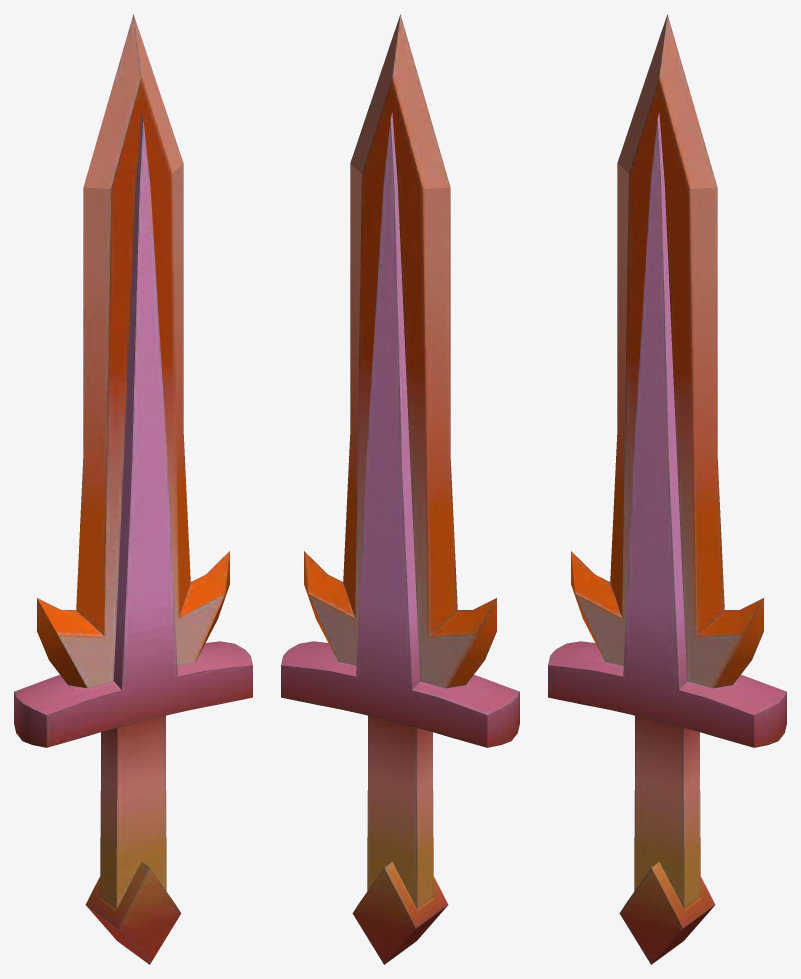
The model's file is espada_01.glb.
3 views of the same model, side by side, from view 1: azimuth 30°, elevation 25°; view 2: azimuth 150°, elevation 25°; view 3: azimuth 330°, elevation 25° (orthographic).
Parts seen in each view (by area): view 1: ASSET_1_OK_1_All_0; view 2: ASSET_1_OK_1_All_0; view 3: ASSET_1_OK_1_All_0.
Boxes of the visible parts, x1,y1,x2,y2 form: ASSET_1_OK_1_All_0: (14, 14, 252, 964); ASSET_1_OK_1_All_0: (281, 14, 519, 964); ASSET_1_OK_1_All_0: (548, 14, 786, 964).
Size of the model in its own units: 1.57 by 6.35 by 0.4002.
Materials: 1 (1 with a texture image).
